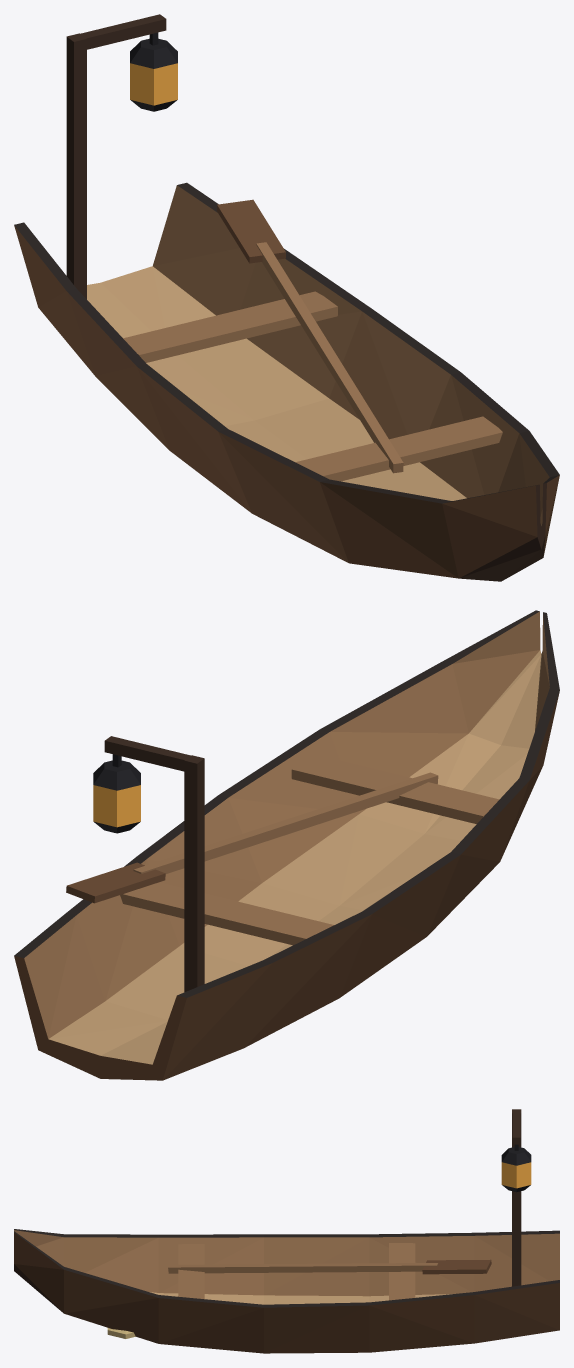
Rendered from boat_small.fbx.
The picture shows the model from 3 angles, top to bottom: view 1: azimuth 30°, elevation 25°; view 2: azimuth 150°, elevation 25°; view 3: azimuth 270°, elevation 25°; orthographic projection. The views are drawn at different scales.
Parts seen in each view (by area): view 1: boat_small; view 2: boat_small; view 3: boat_small.
Part boxes in pixels (box(x1,y1,x2,y2)): boat_small: box(14, 14, 559, 581); boat_small: box(14, 610, 559, 1080); boat_small: box(14, 1109, 559, 1353).
Size of the model in its own units: 1.32 by 1.73 by 4.15.
